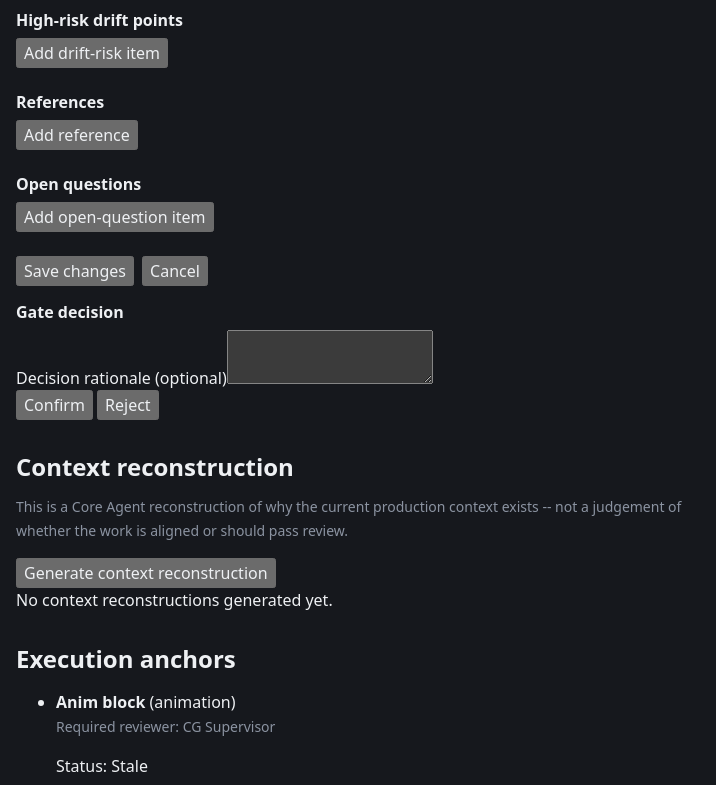
Scenario: ShotAnchorPage › shows a clear success state after rejecting
This screenshot has width=716, height=785.
(page scrolled)
What coordinates should you click on to do the following:
click the button "Reject"
I would click on:
 (128, 405)
Its box is [97,390,159,420].
(page scrolled)
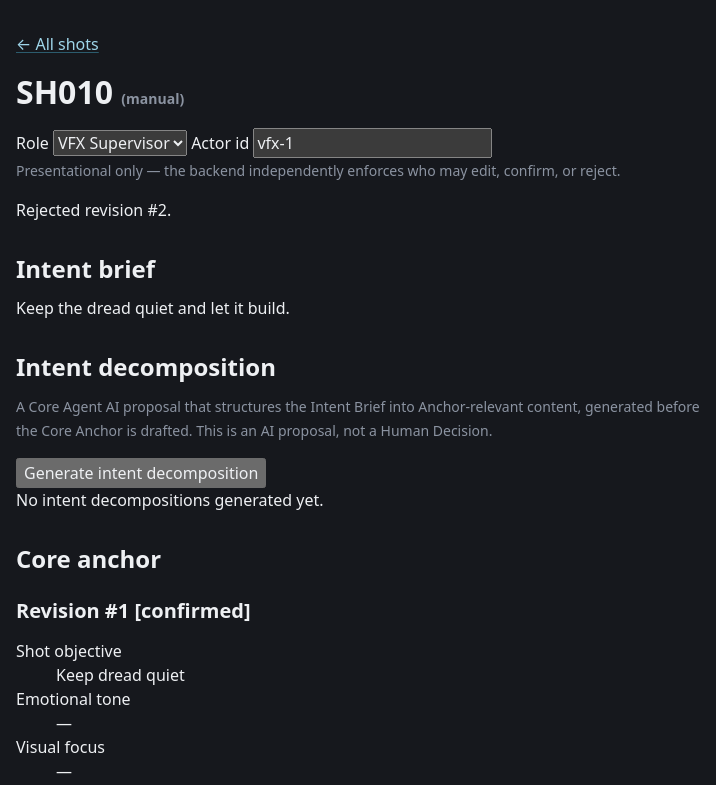
expect the text "Rejected revision #2." is shown: met, box [16,199,171,221]
